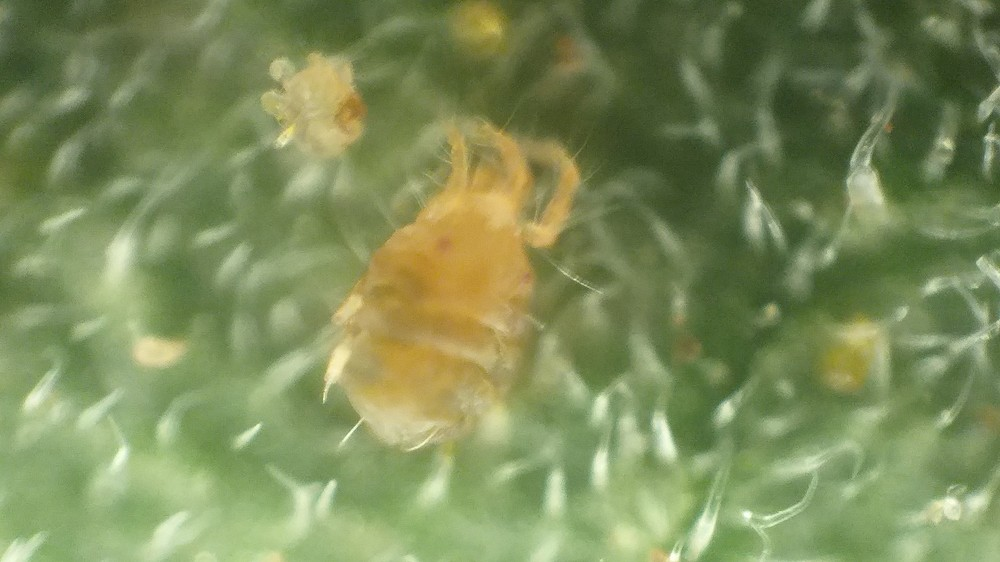Aracnido Rojo: (327, 117, 594, 487), (264, 52, 376, 171)
